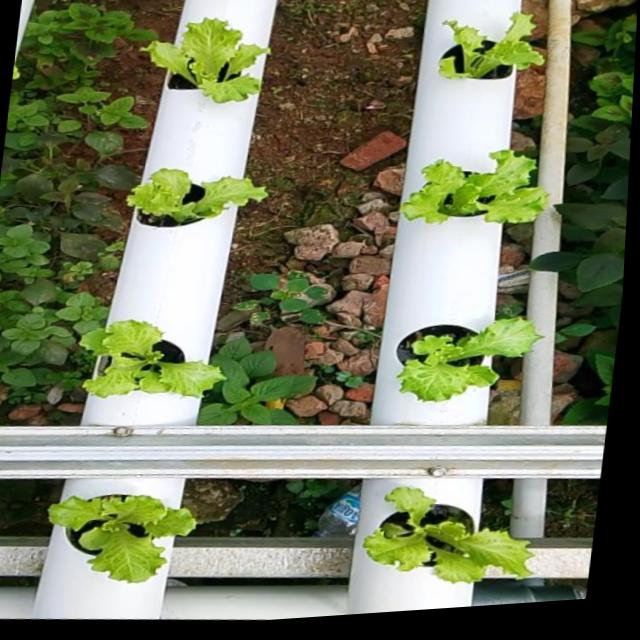Baby: (368, 483, 540, 579), (50, 479, 199, 583), (394, 319, 541, 405), (82, 318, 231, 398), (399, 151, 548, 226), (140, 20, 270, 104), (125, 169, 267, 229), (438, 15, 544, 81)
